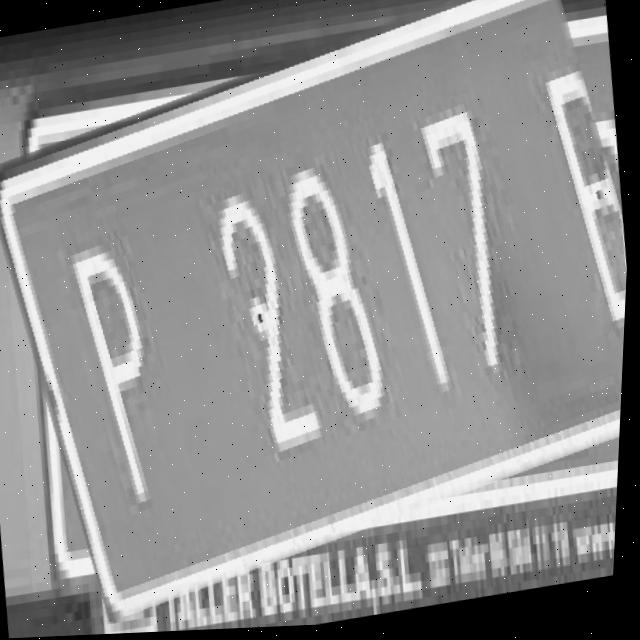LicensePlate: (0, 0, 640, 611)
